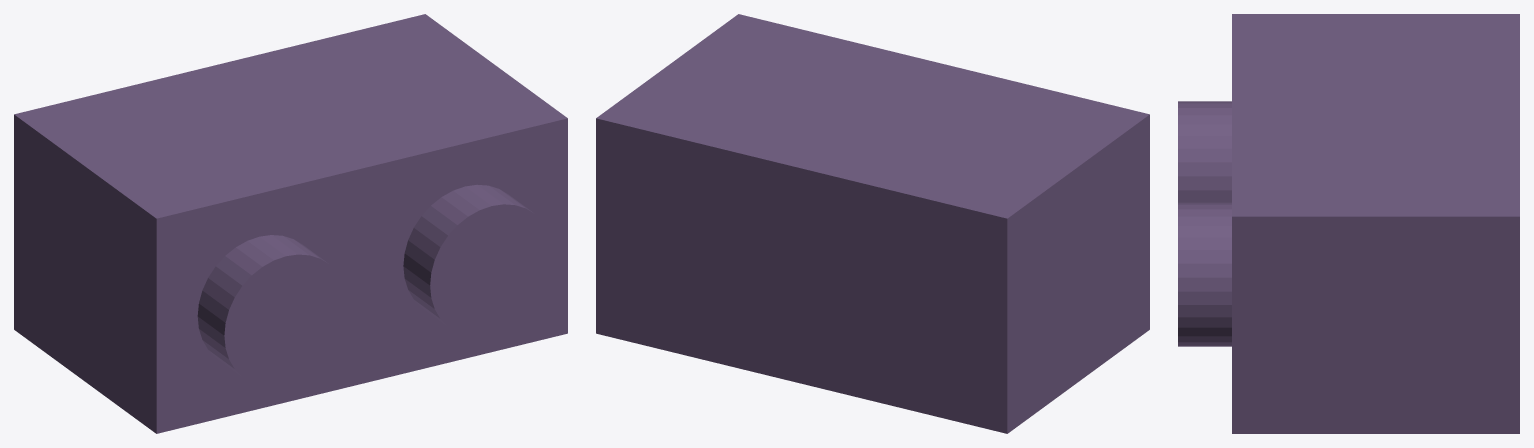
The model's file is brick_3.glb.
3 renders of one model, left to right at view 1: azimuth 30°, elevation 25°; view 2: azimuth 150°, elevation 25°; view 3: azimuth 270°, elevation 25°, orthographic.
Parts seen in each view (by area): view 1: world; view 2: world; view 3: world.
Boxes of the visible parts, box(x1,y1,x2,y2) form: world: box(14, 14, 567, 433); world: box(596, 14, 1149, 433); world: box(1178, 14, 1519, 433).
Bounding box in the file's own units: 16 × 8 × 11.4.
